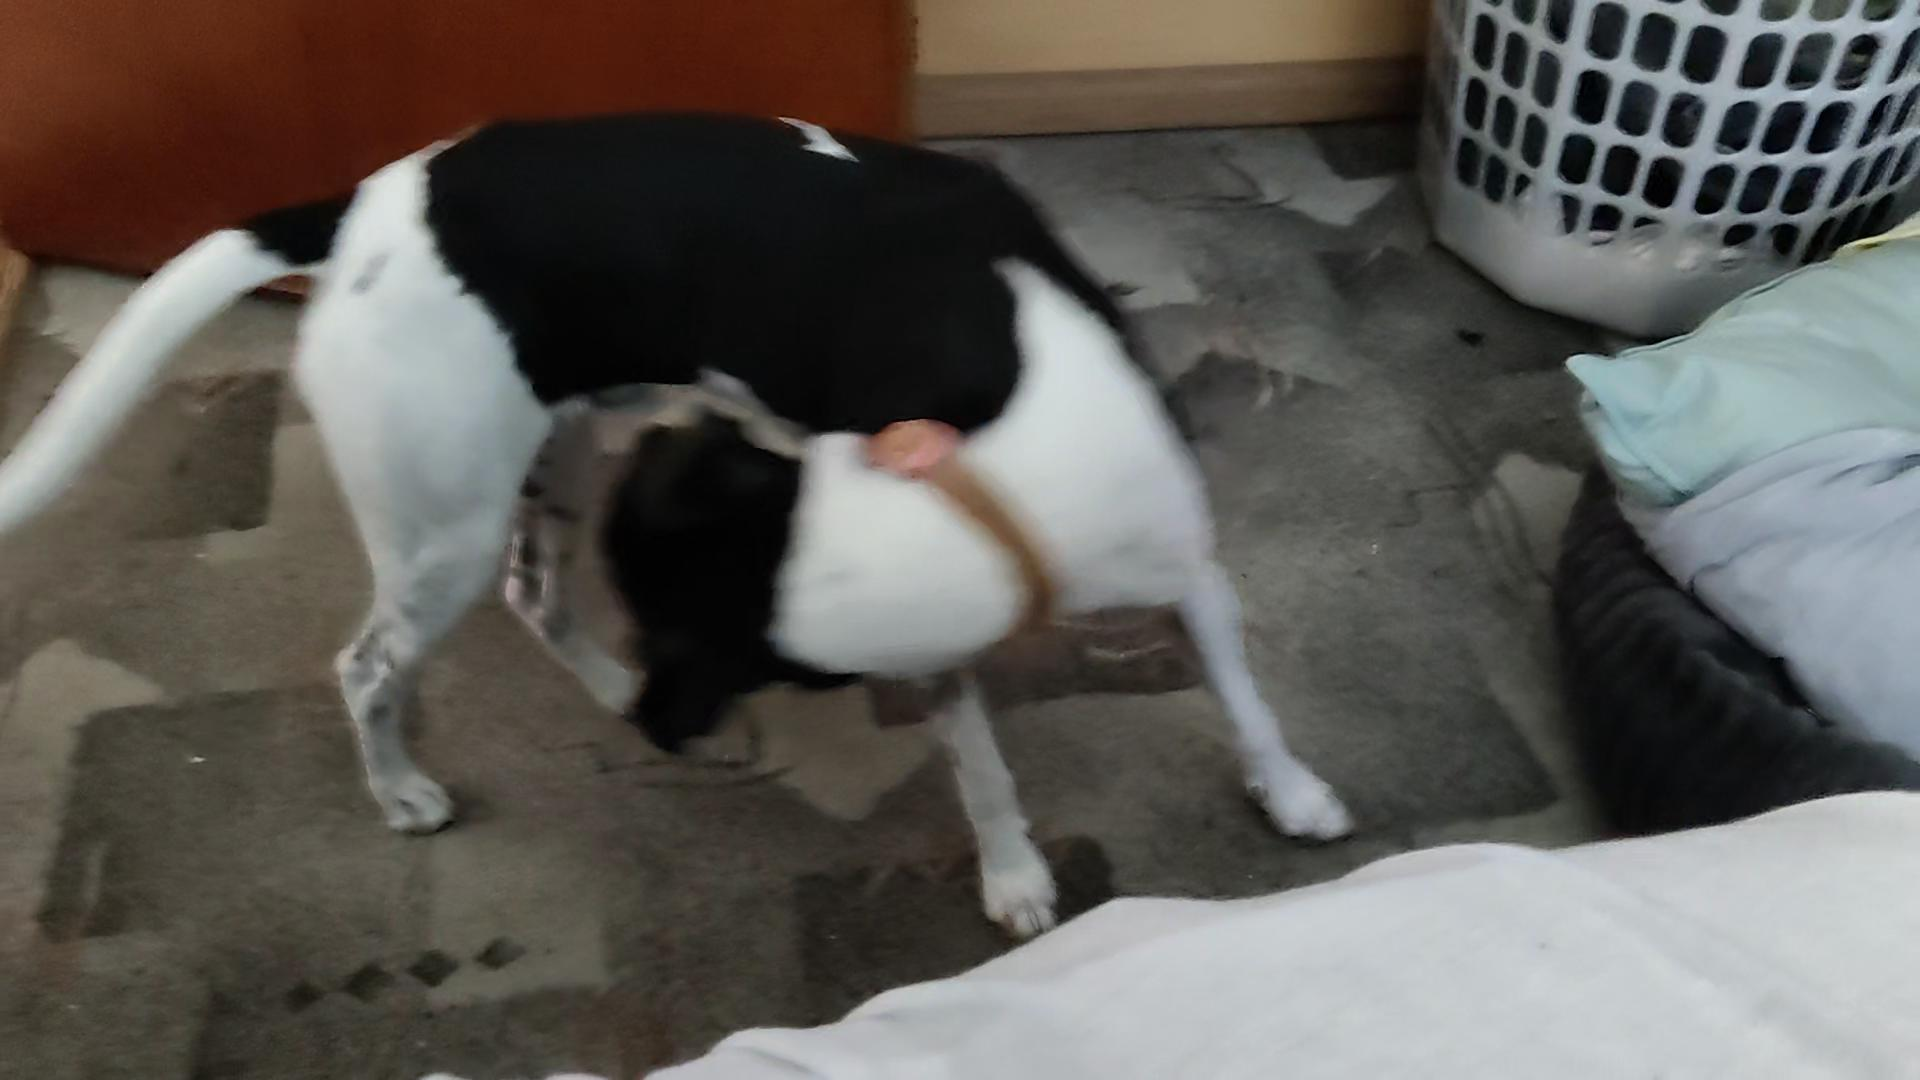Dog: (0, 99, 1361, 952)
